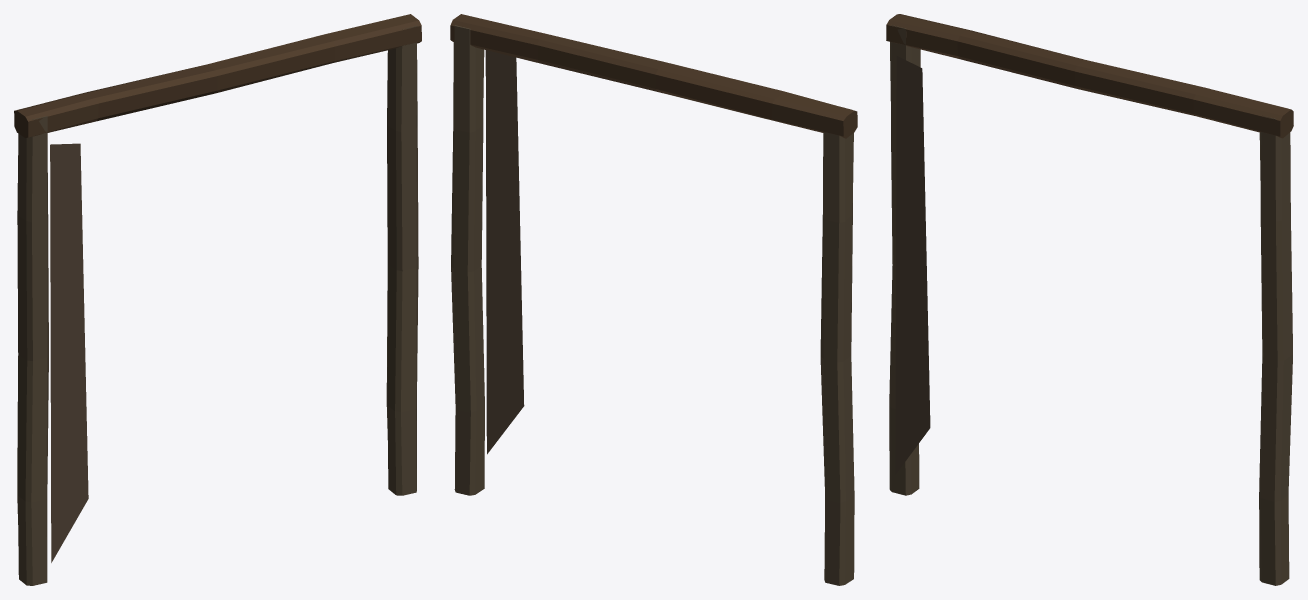
Rendered from hide-curtain-open.glb.
3 renders of one model, left to right at view 1: azimuth 30°, elevation 25°; view 2: azimuth 150°, elevation 25°; view 3: azimuth 330°, elevation 25°, orthographic.
Parts seen in each view (by area): view 1: Wood, Cloth; view 2: Wood, Cloth; view 3: Wood, Cloth.
Boxes of the visible parts, box(x1,y1,x2,y2) form: Wood: box(14, 14, 421, 585); Cloth: box(50, 143, 88, 562); Wood: box(450, 14, 857, 585); Cloth: box(485, 50, 524, 454); Wood: box(886, 14, 1293, 585); Cloth: box(895, 56, 930, 474).
Size of the model in its own units: 1.96 by 2.24 by 0.1953.
